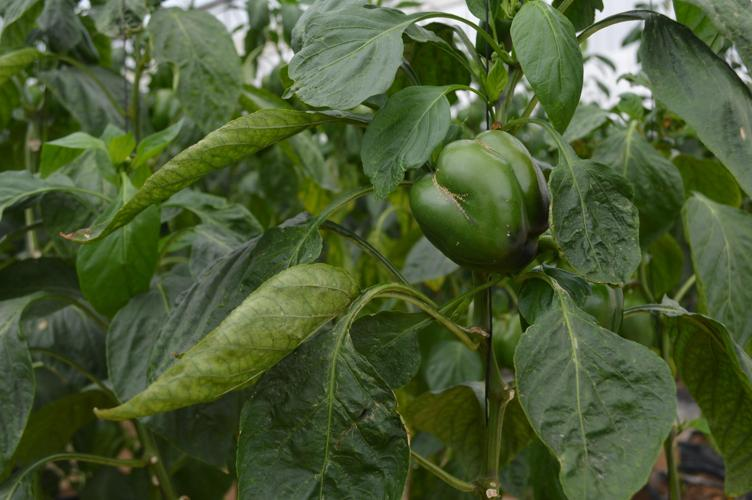BellPepper: (398, 132, 555, 280)
